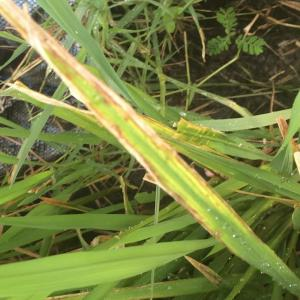Bacterial_Blight: (119, 140, 181, 194)
